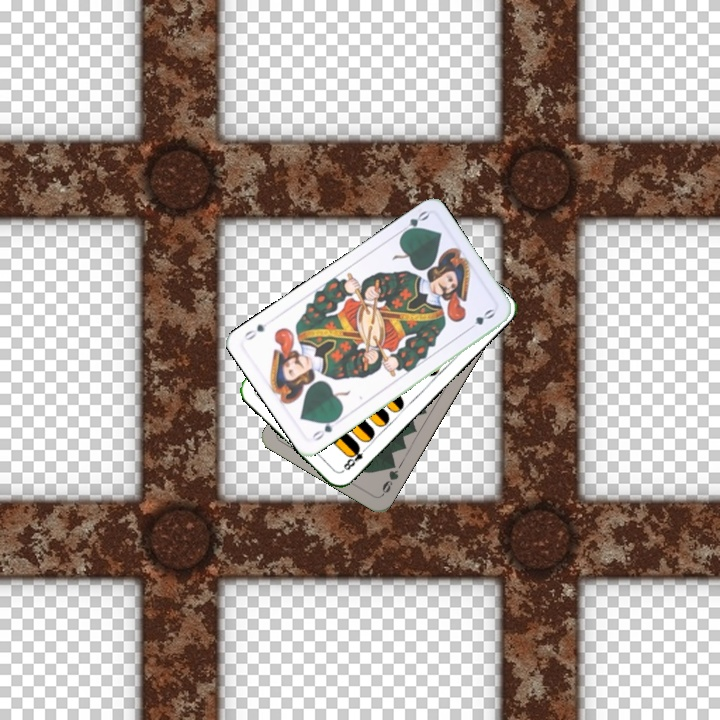E8: (338, 441, 371, 474)
G9: (378, 458, 401, 498)
GO: (395, 207, 432, 239), (307, 413, 342, 444)
